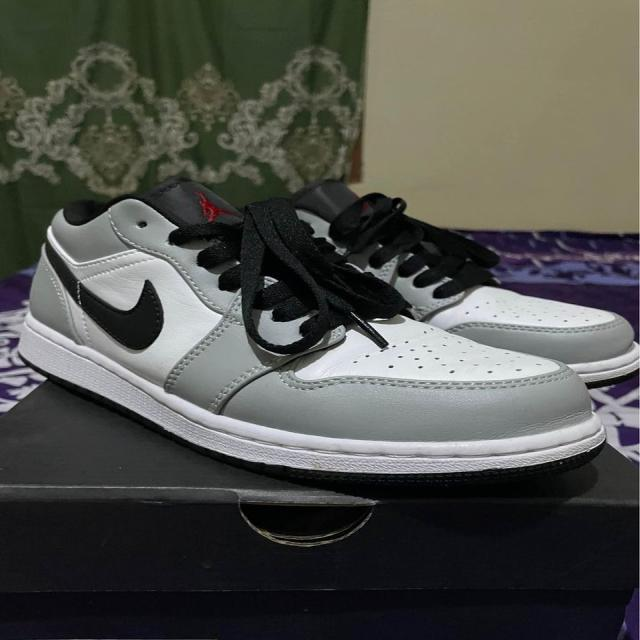nike original jordan 1: (4, 175, 638, 492), (275, 175, 640, 386)
